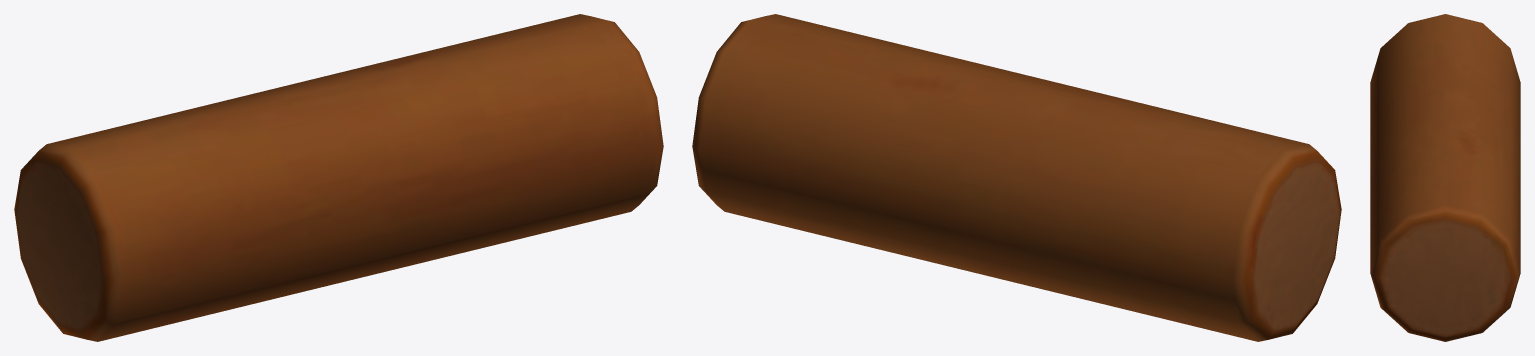
3 views of the same model, side by side, from view 1: azimuth 30°, elevation 25°; view 2: azimuth 150°, elevation 25°; view 3: azimuth 270°, elevation 25° (orthographic). The views are drawn at different scales.
Visible parts, largest first — view 1: 原木shen; view 2: 原木shen; view 3: 原木shen.
Boxes of the visible parts, x1,y1,x2,y2 form: 原木shen: (14,14,663,341); 原木shen: (692,14,1341,341); 原木shen: (1370,14,1520,341).
Size of the model in its own units: 1.35 by 0.4283 by 0.4283.
Materials: 1 (1 with a texture image).
